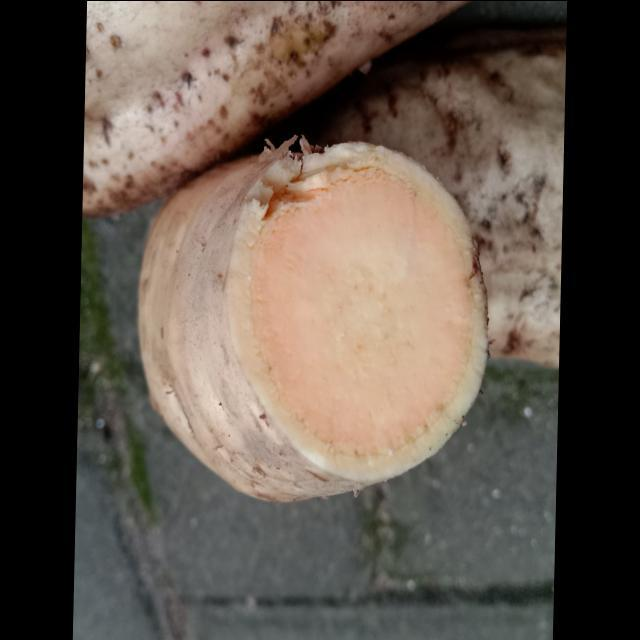Healthy Sweet Potato: (226, 142, 488, 483)
